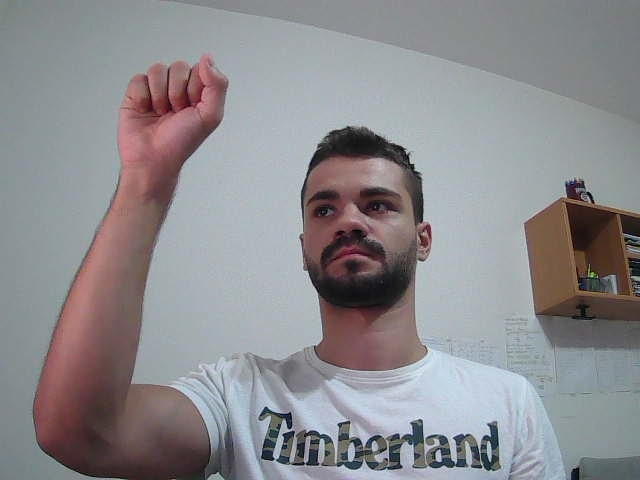a: (96, 51, 233, 328)
